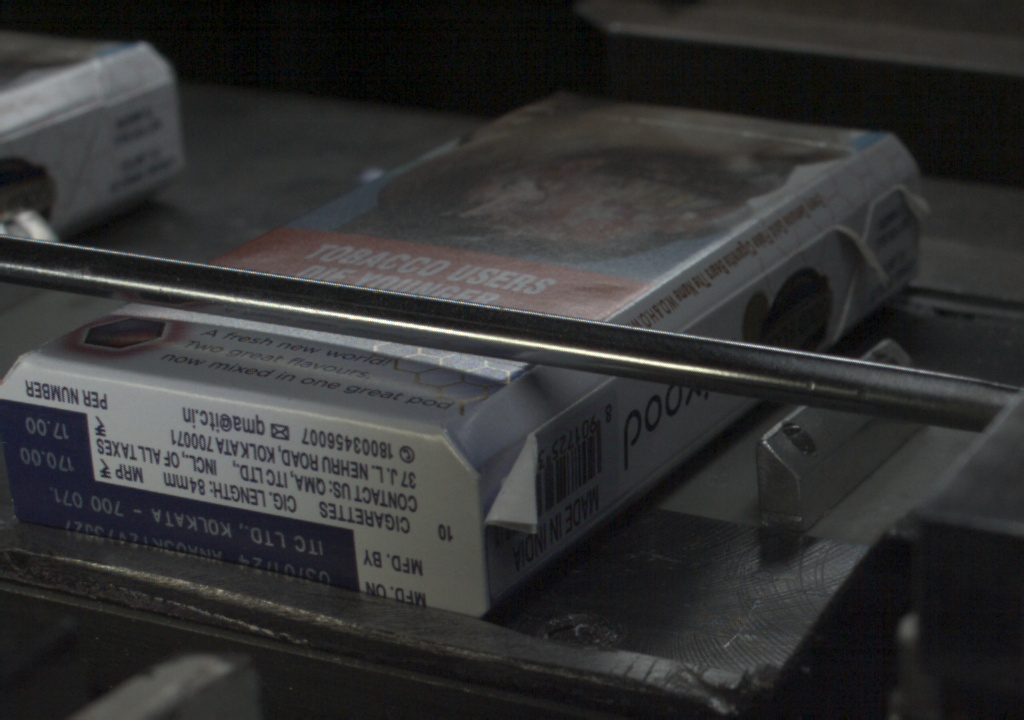g_bottom: (1, 367, 471, 627)
g_label: (1, 475, 356, 591)
g_lmiter: (727, 252, 799, 303), (544, 382, 606, 426), (684, 291, 739, 330)
ng_lmiter: (479, 428, 546, 532), (818, 223, 893, 291)
ng_miter: (885, 179, 931, 218)
price: (1, 405, 94, 474)
